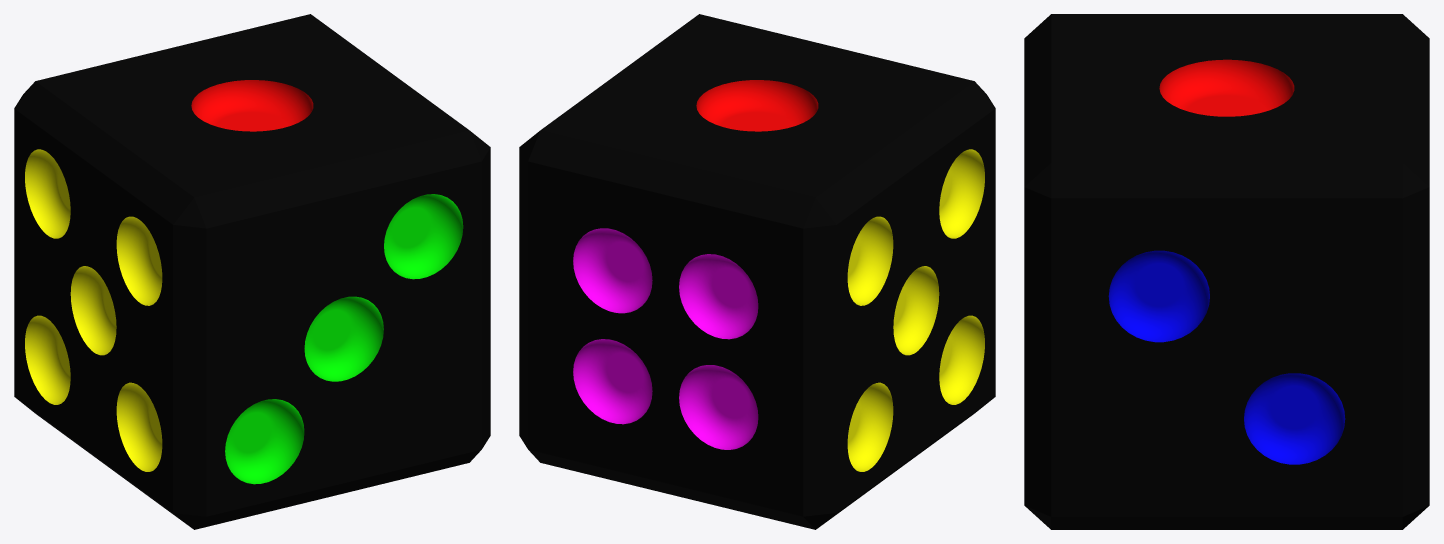
The picture shows the model from 3 angles, left to right: view 1: azimuth 30°, elevation 25°; view 2: azimuth 150°, elevation 25°; view 3: azimuth 270°, elevation 25°; orthographic projection. The views are drawn at different scales.
Visible parts, largest first — view 1: Part1; view 2: Part1; view 3: Part1.
Boxes of the visible parts, x1,y1,x2,y2 form: Part1: (14, 14, 490, 529); Part1: (519, 14, 995, 529); Part1: (1024, 14, 1429, 529).
Size of the model in its own units: 0.03 by 0.03 by 0.03.
